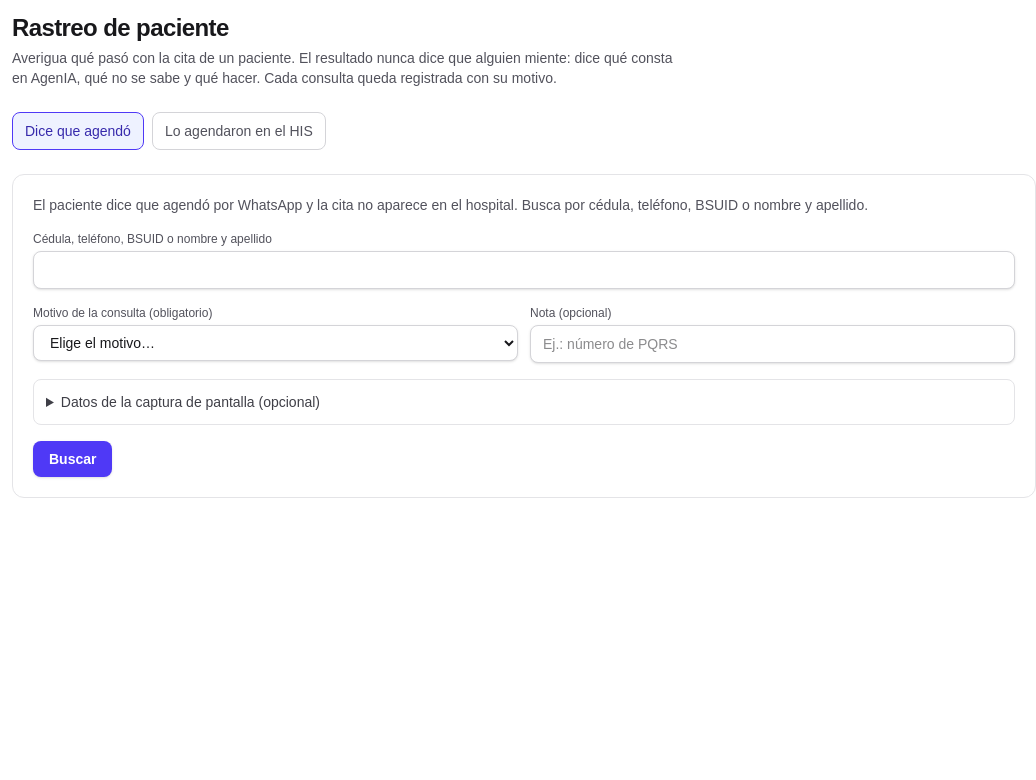
RastreoClient — resultados de la búsqueda › muestra candidatos ENMASCARADOS y nunca datos completos
Type "1088123456" into the field labelled "Cédula, teléfono, BSUID o nombre y apellido" at (524, 270), box [33,251,1015,289]
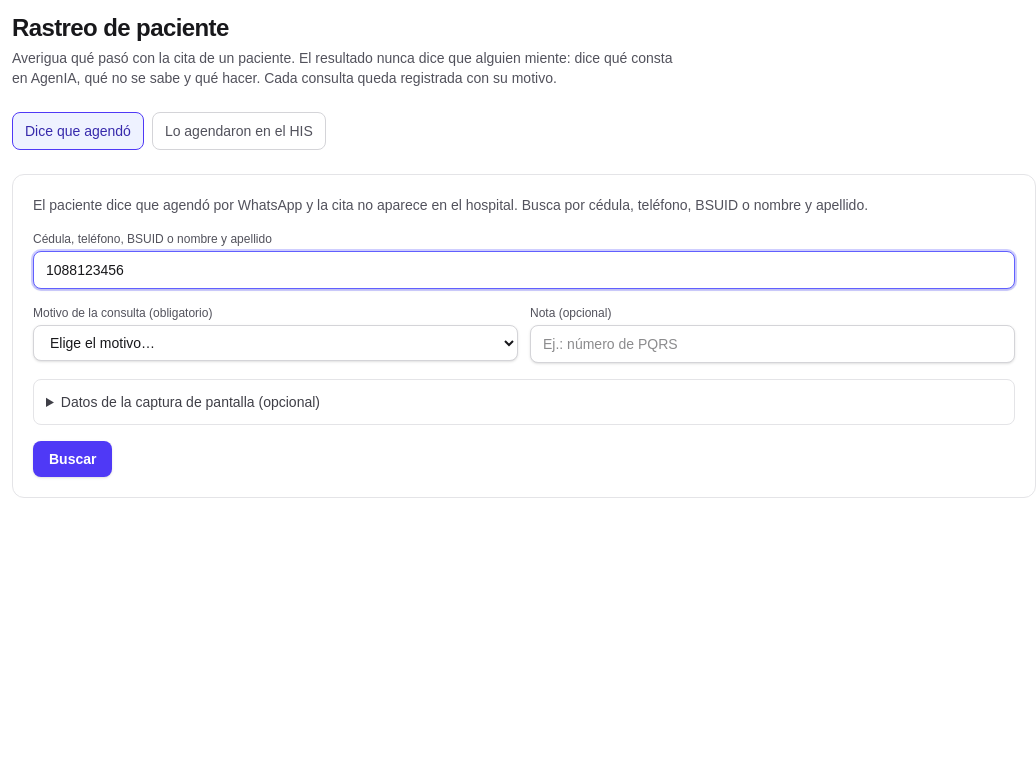
Select "Paciente en ventanilla" in the dropdown labelled "Motivo de la consulta (obligatorio)" at (276, 343), box [33,325,518,361]
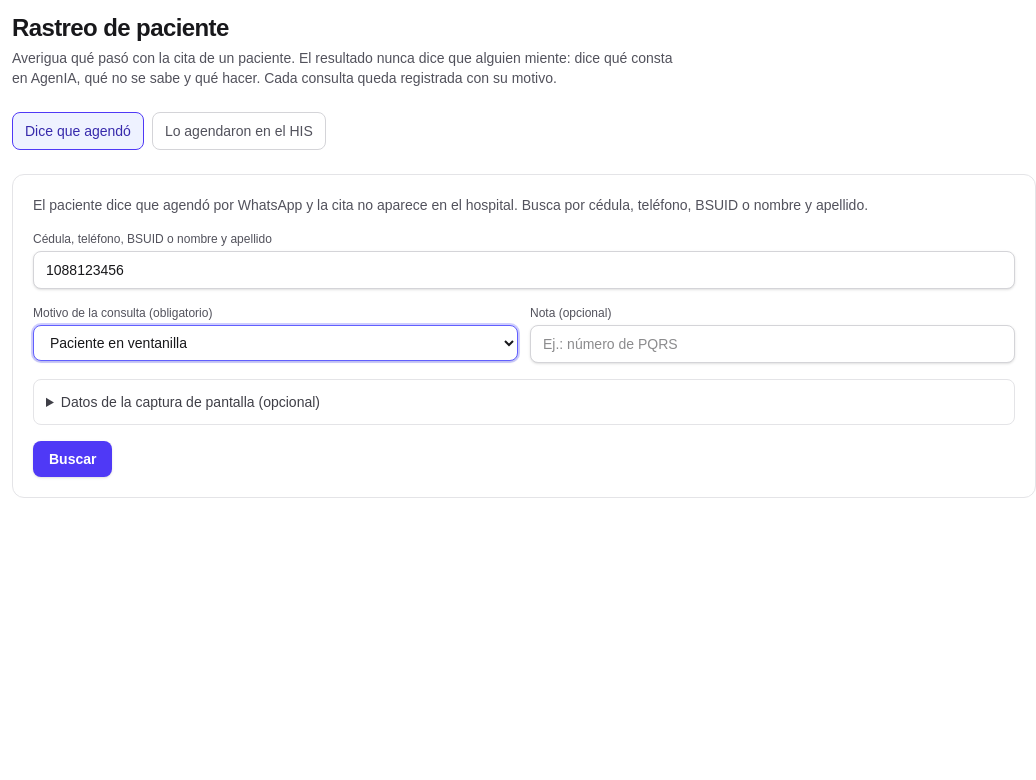
Click the button "Buscar" at (73, 459), box [33,441,112,477]
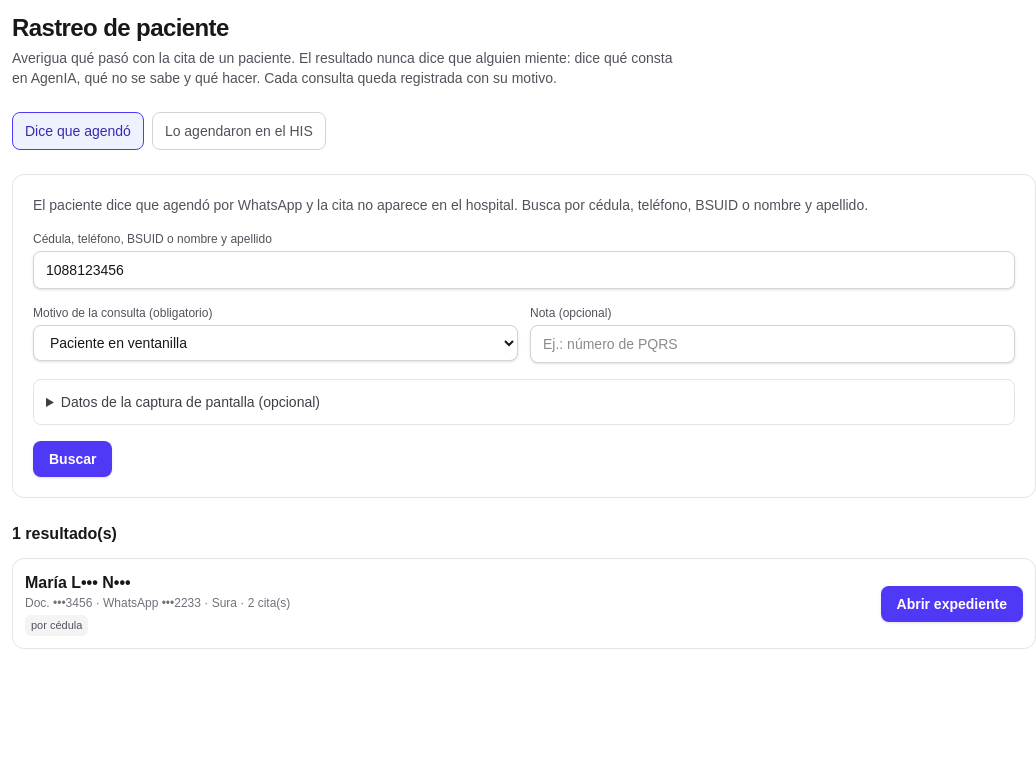
Expected: the text "María L••• N•••" is shown, [25,574,131,591]
Expected: the text "Doc. •••3456 · WhatsApp •••2233 · Sura · 2 cita(s)" is shown, [25,595,290,611]
Expected: the text "por cédula" is shown, [25,615,88,636]
